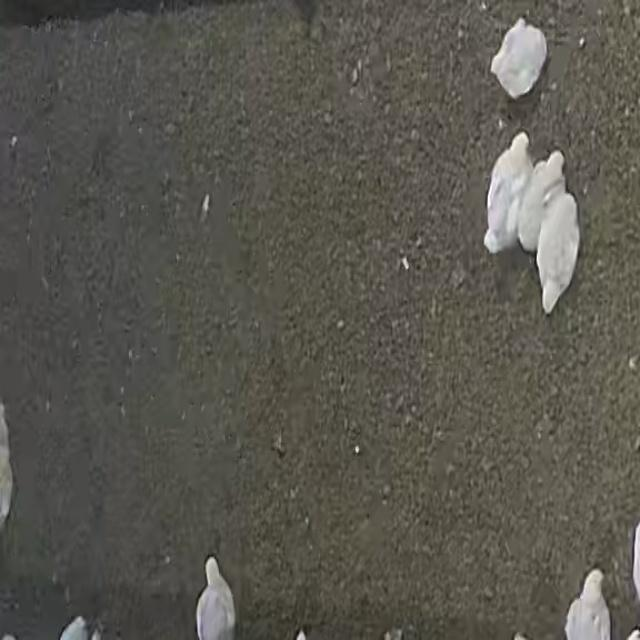chicken: (484, 127, 534, 261), (536, 192, 582, 315), (490, 12, 550, 102)
